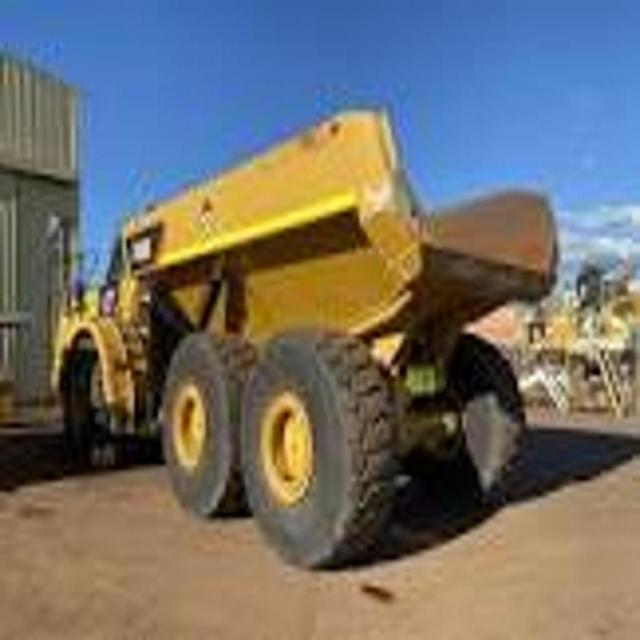dump_truck: (47, 108, 566, 572)
